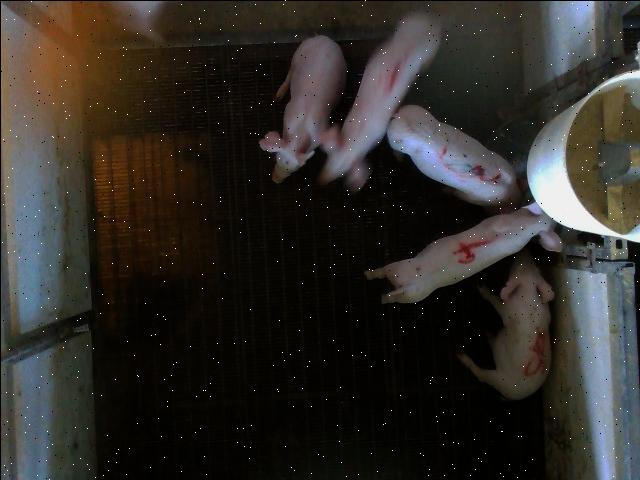pig-1: (316, 11, 440, 191)
pig-3: (386, 104, 521, 214)
pig-4: (365, 202, 561, 301)
pig-5: (456, 248, 552, 399)
